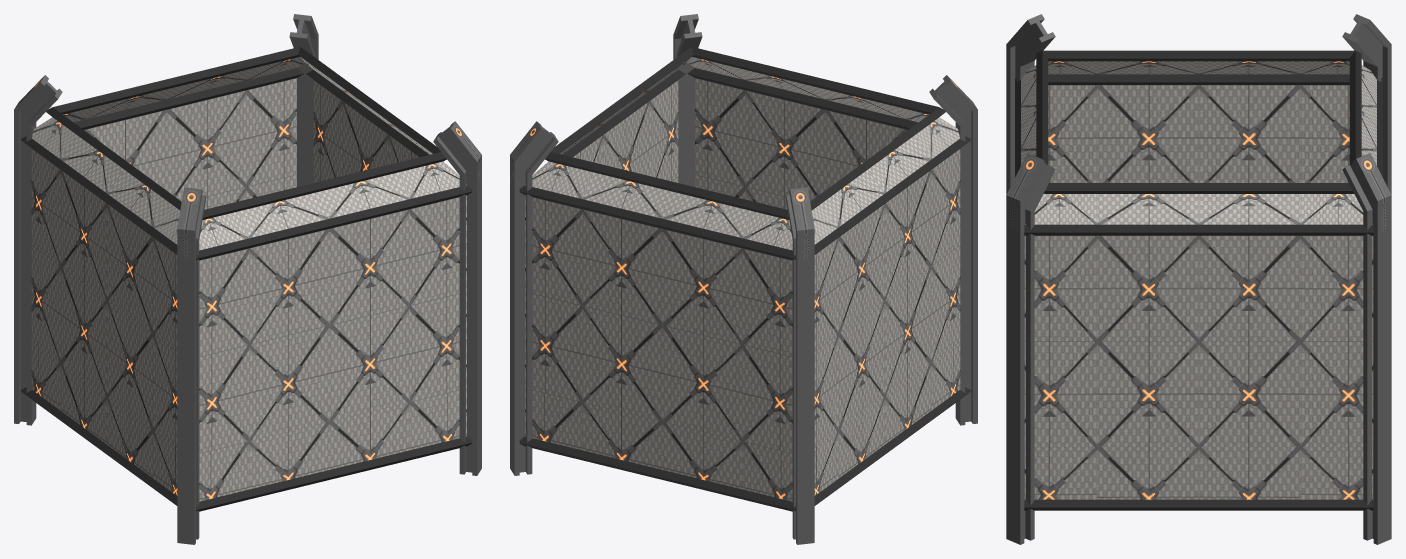
3 renders of one model, left to right at view 1: azimuth 30°, elevation 25°; view 2: azimuth 150°, elevation 25°; view 3: azimuth 270°, elevation 25°, orthographic. The views are drawn at different scales.
Visible parts, largest first — view 1: Plane.006; view 2: Plane.006; view 3: Plane.006.
Boxes of the visible parts, x1,y1,x2,y2 form: Plane.006: (14,14,481,544); Plane.006: (510,14,977,544); Plane.006: (1006,14,1391,544).
Bounding box in the file's own units: 30.45 × 32.9 × 30.45.
1 material, 1 textured.
